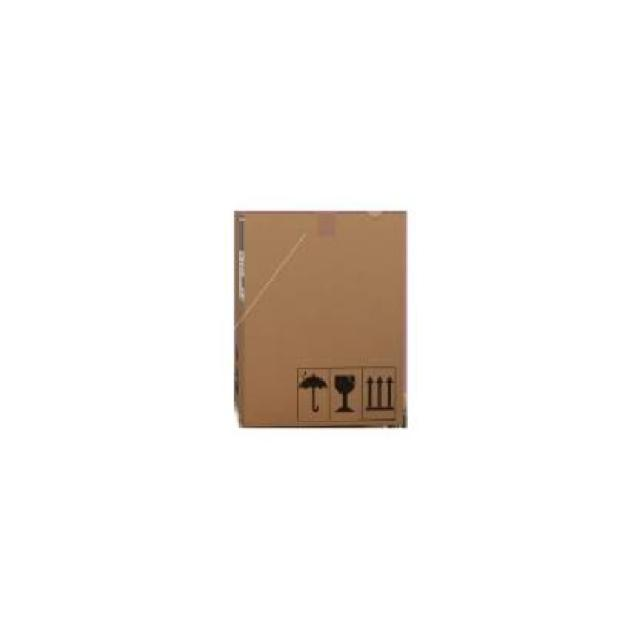cardboxes: (233, 212, 405, 431)
